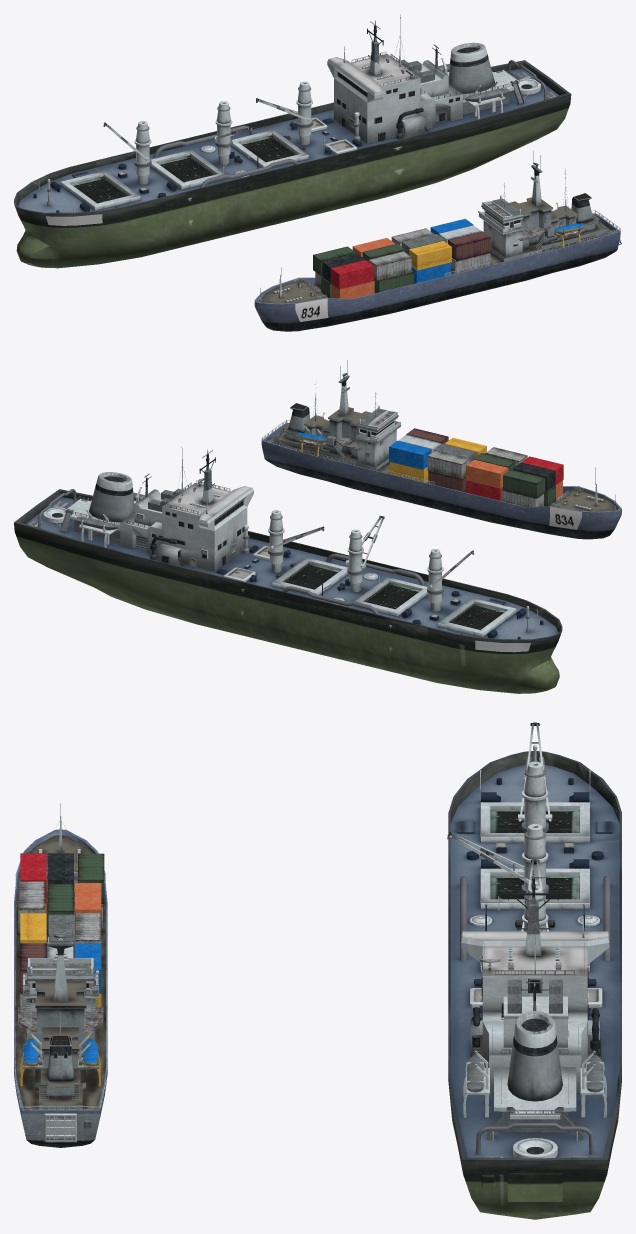
The model's file is tankers.FBX.
3 views of the same model, one above another, from view 1: azimuth 30°, elevation 25°; view 2: azimuth 150°, elevation 25°; view 3: azimuth 270°, elevation 25° (orthographic). The views are drawn at different scales.
Parts seen in each view (by area): view 1: RT_Port_St01_Cargo_F_GenCargo_01_Cargo_F_GenCargo_02, RT_Port_St01_Cargo_D_SmallContainer_01; view 2: RT_Port_St01_Cargo_F_GenCargo_01_Cargo_F_GenCargo_02, RT_Port_St01_Cargo_D_SmallContainer_01; view 3: RT_Port_St01_Cargo_F_GenCargo_01_Cargo_F_GenCargo_02, RT_Port_St01_Cargo_D_SmallContainer_01.
Part boxes in pixels (left/top/right/bottom): RT_Port_St01_Cargo_F_GenCargo_01_Cargo_F_GenCargo_02: left=14, top=14, right=571, bottom=268; RT_Port_St01_Cargo_D_SmallContainer_01: left=254, top=151, right=621, bottom=331; RT_Port_St01_Cargo_F_GenCargo_01_Cargo_F_GenCargo_02: left=14, top=447, right=562, bottom=693; RT_Port_St01_Cargo_D_SmallContainer_01: left=261, top=360, right=621, bottom=539; RT_Port_St01_Cargo_F_GenCargo_01_Cargo_F_GenCargo_02: left=447, top=722, right=621, bottom=1219; RT_Port_St01_Cargo_D_SmallContainer_01: left=14, top=803, right=107, bottom=1147.
Bounding box in the file's own units: 185 × 56.73 × 116.
